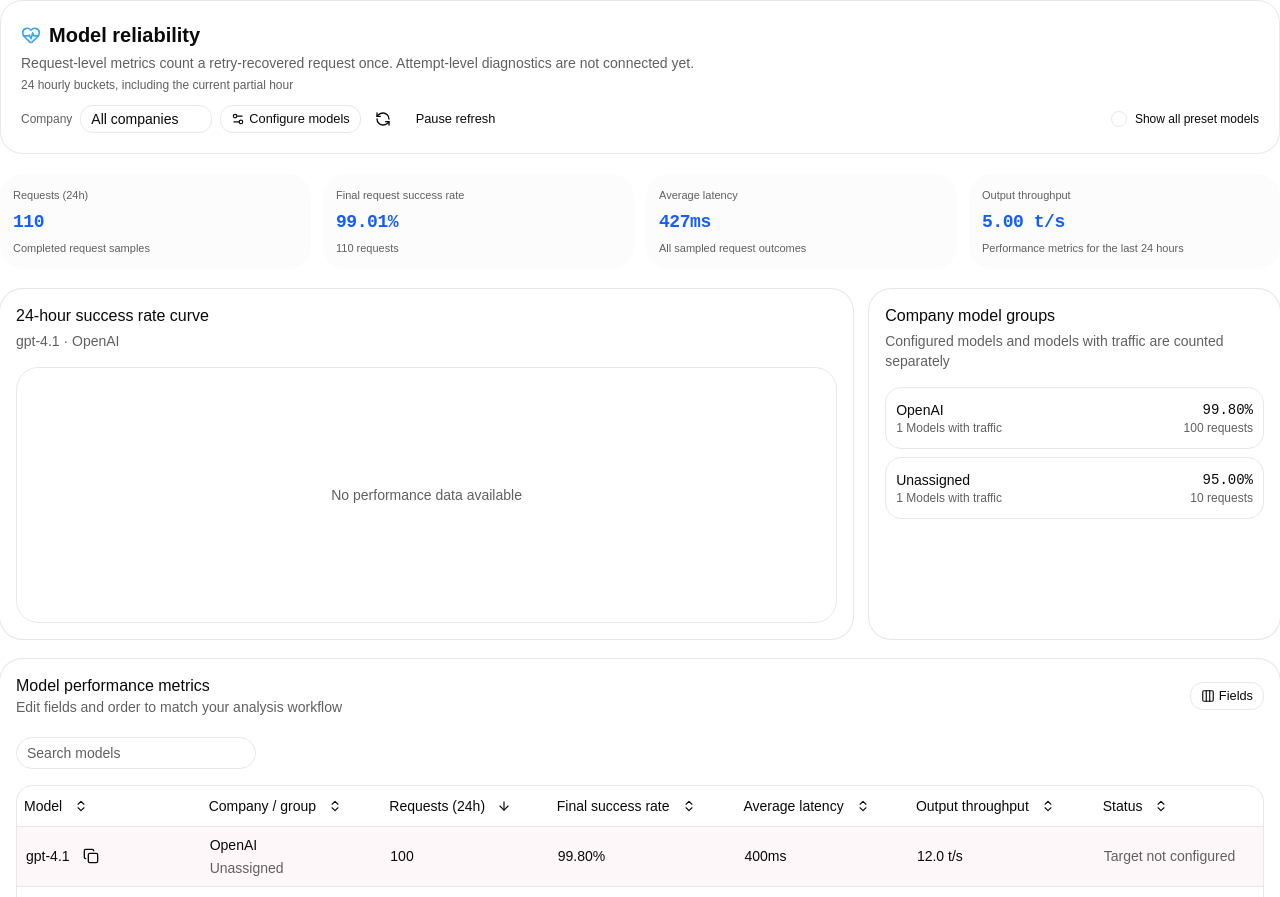
Scenario: server performance summaries › keeps unassigned models available when configured companies exist
Select "Unassigned" in the dropdown labelled "Company": (146, 119) x1=80 y1=105 x2=212 y2=133
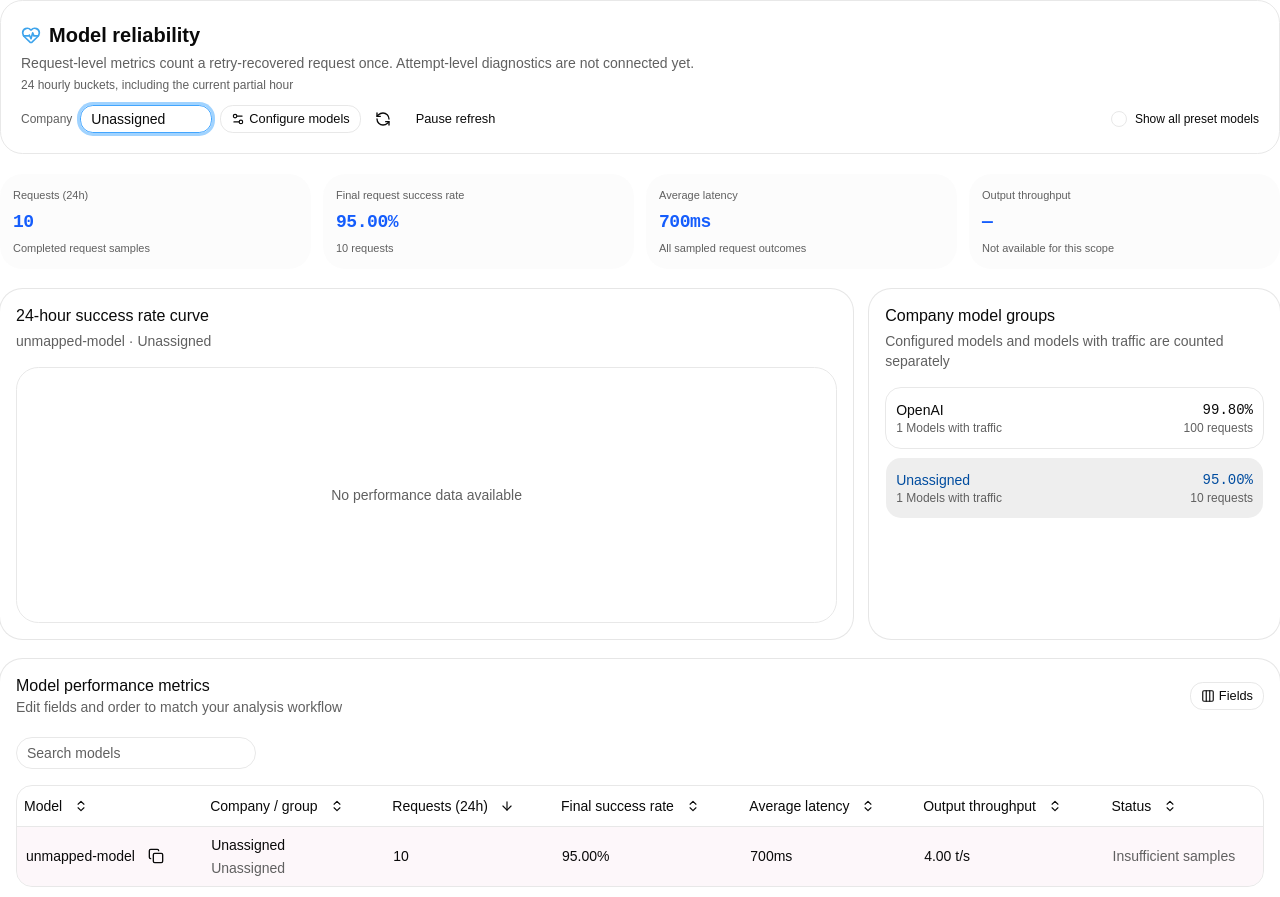
Check: the text "unmapped-model" is shown, box x1=26 y1=847 x2=135 y2=866
Check: the text "gpt-4.1" is gone
